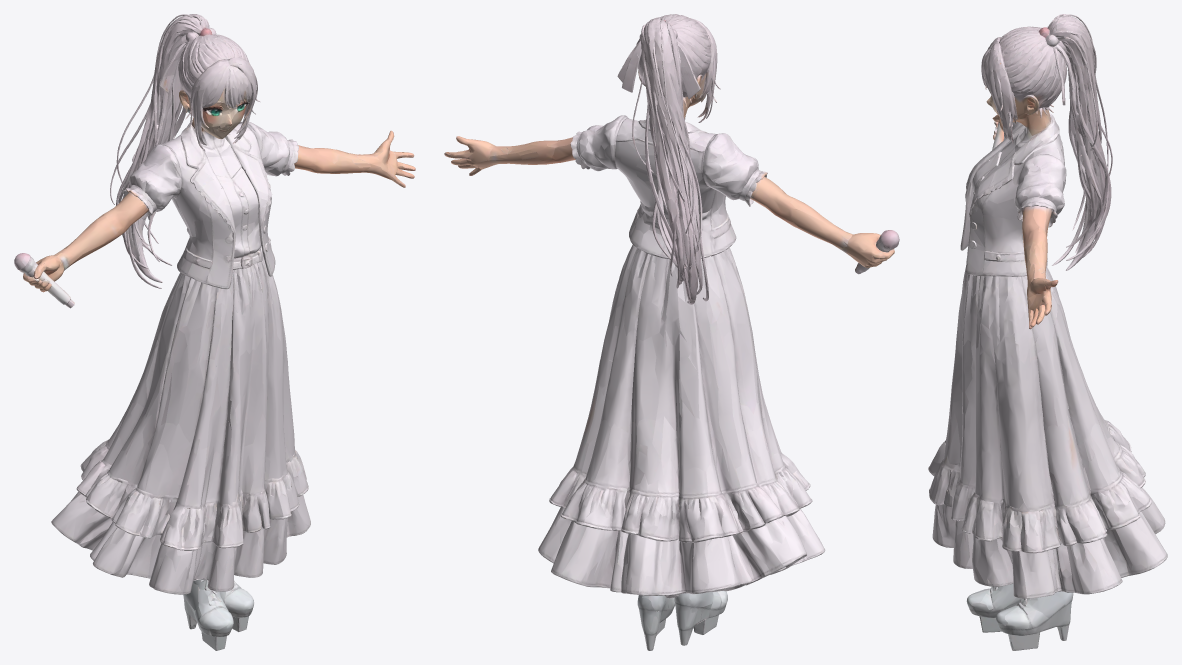
The model's file is idol-model-white.glb.
3 renders of one model, left to right at view 1: azimuth 30°, elevation 25°; view 2: azimuth 150°, elevation 25°; view 3: azimuth 270°, elevation 25°, orthographic. The views are drawn at different scales.
Visible parts, largest first — view 1: output_unwrapped; view 2: output_unwrapped; view 3: output_unwrapped.
Part boxes in pixels (bbox=[...]): output_unwrapped: bbox=[14, 14, 415, 650]; output_unwrapped: bbox=[444, 14, 899, 650]; output_unwrapped: bbox=[928, 14, 1167, 650].
Size of the model in its own units: 1.37 by 1.91 by 0.6666.
1 material, 1 textured.
